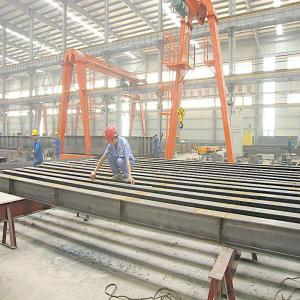red: (105, 126, 119, 149)
yellow: (33, 129, 39, 142), (56, 132, 59, 139), (156, 134, 159, 138)
